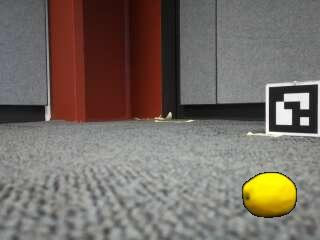lemon: (242, 173, 295, 217)
